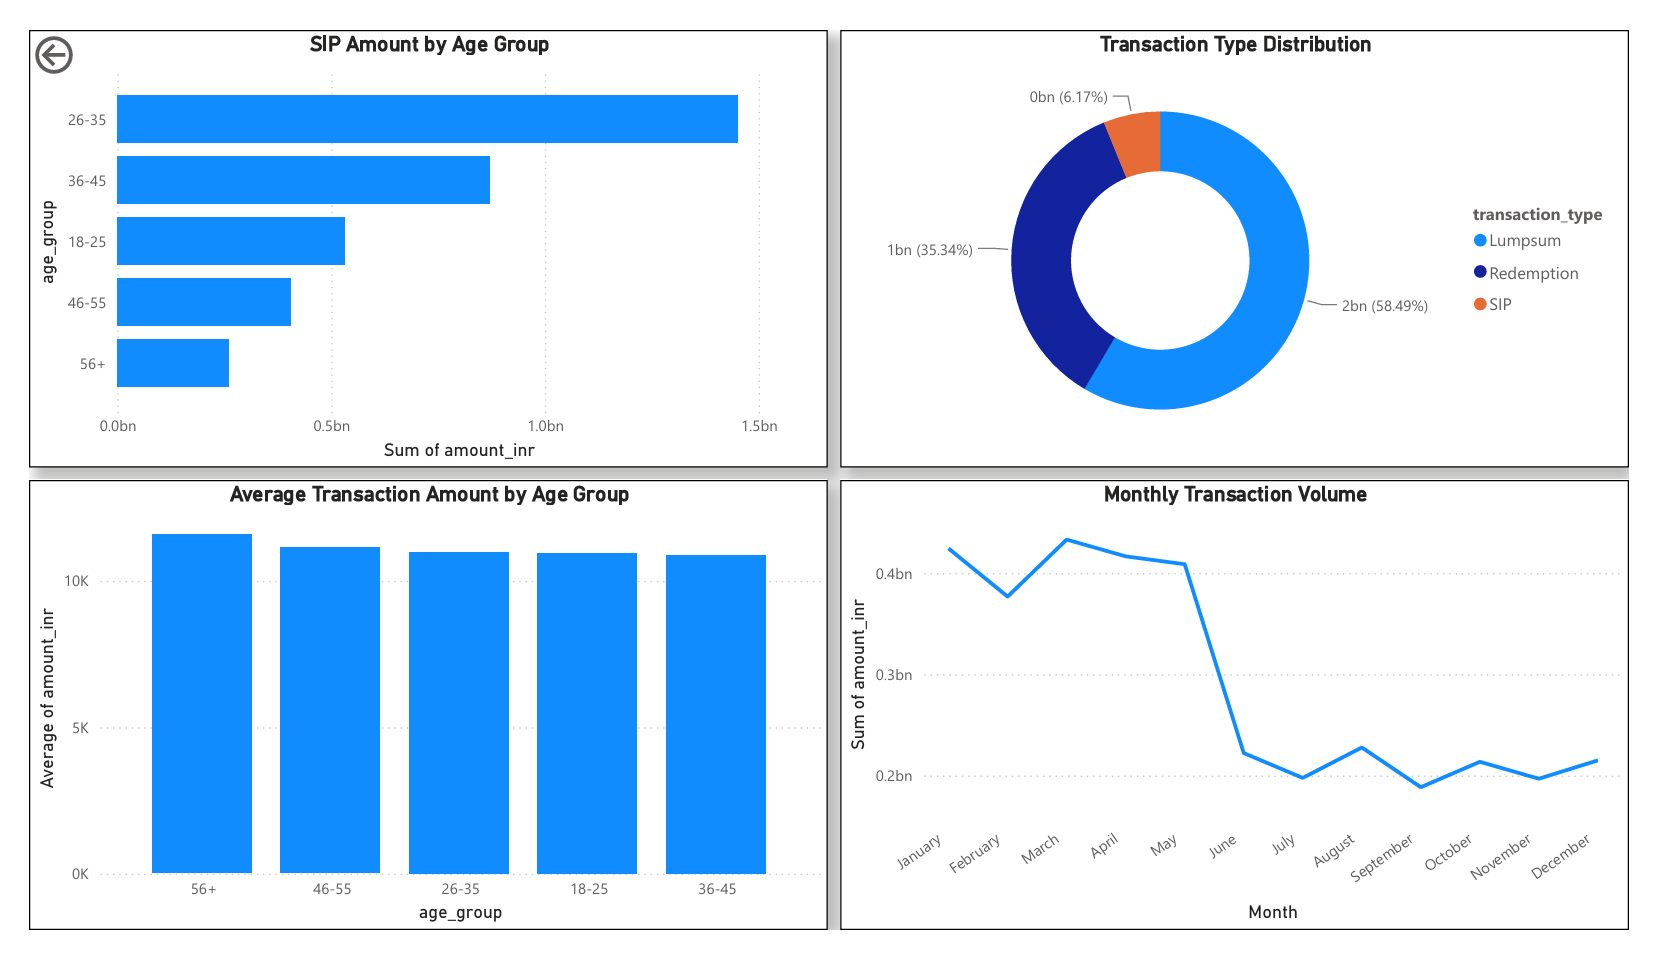

The dashboard page shown, as its layout file describes it:
{"tool":"powerbi","page":{"name":"Advanced Analysis","canvas":[1280,720],"ordinal":2},"visuals":[{"type":"clusteredBarChart","title":"SIP Amount by Age Group","fields":{"Y":["Sum(transaction_dashboard.amount_inr)"],"Category":["transaction_dashboard.age_group"]},"box":[0,0,639.5,349.9],"z":0},{"type":"donutChart","title":"Transaction Type Distribution","fields":{"Category":["transaction_dashboard.transaction_type"],"Y":["Sum(transaction_dashboard.amount_inr)"]},"box":[649.1,0,631.2,349.9],"z":1000},{"type":"clusteredColumnChart","title":"Average Transaction Amount by Age Group","fields":{"Category":["transaction_dashboard.age_group"],"Y":["Avg(transaction_dashboard.amount_inr)"]},"box":[0,359.5,639.5,360.9],"z":2000},{"type":"actionButton","box":[0,0,100,40],"z":3000},{"type":"lineChart","title":"Monthly Transaction Volume","fields":{"Category":["transaction_dashboard.transaction_date.Variation.Date Hierarchy.Month"],"Y":["Sum(transaction_dashboard.amount_inr)"]},"box":[649.1,359.5,631.2,360.9],"z":3001}]}

Visuals, with their boxes in screenshot pixels (x1, y1, x2, y2), scaled from the page's 1280x720 canvas onto the 1657x957 screenshot:
"SIP Amount by Age Group" clusteredBarChart: (0,0,828,465)
"Transaction Type Distribution" donutChart: (840,0,1656,465)
"Average Transaction Amount by Age Group" clusteredColumnChart: (0,478,828,956)
actionButton: (0,0,129,53)
"Monthly Transaction Volume" lineChart: (840,478,1656,956)
